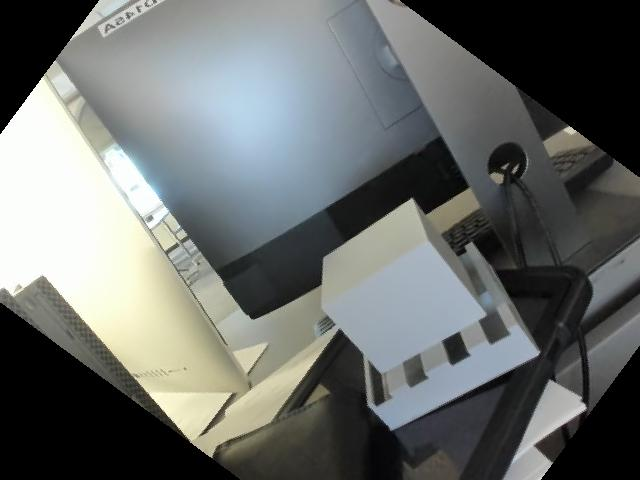white pallet: (313, 196, 571, 432)
